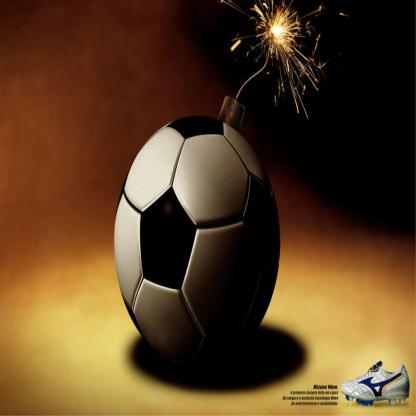ball: (112, 112, 283, 379)
